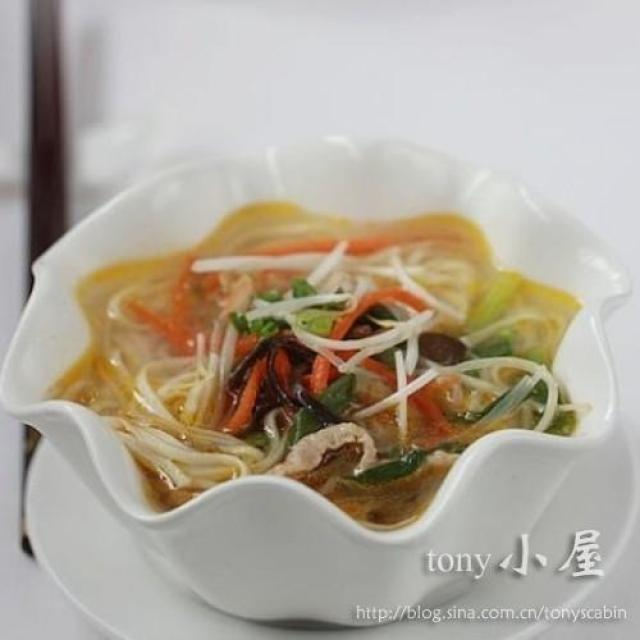面条主食: (33, 156, 617, 589)
